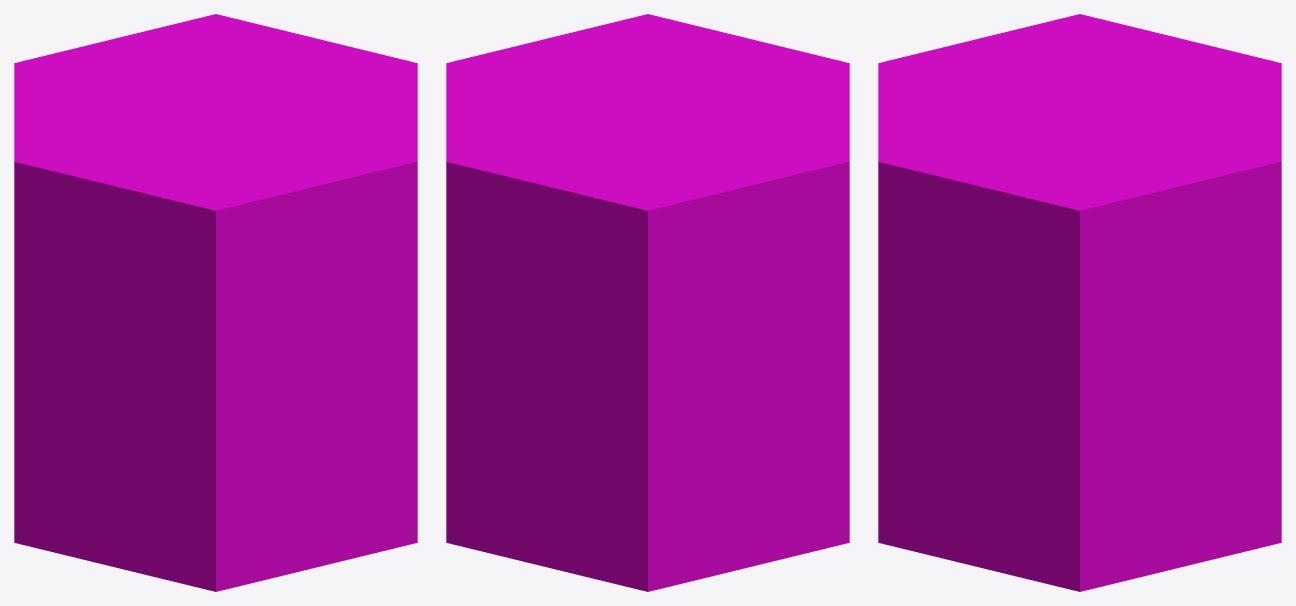
Rendered from GB_Village_House_02.fbx.
The picture shows the model from 3 angles, left to right: view 1: azimuth 30°, elevation 25°; view 2: azimuth 150°, elevation 25°; view 3: azimuth 270°, elevation 25°; orthographic projection.
Visible parts, largest first — view 1: Village_House_02; view 2: Village_House_02; view 3: Village_House_02.
Boxes of the visible parts, x1,y1,x2,y2 form: Village_House_02: (14,14,417,591); Village_House_02: (446,14,849,591); Village_House_02: (878,14,1281,591).
Bounding box in the file's own units: 141 × 128 × 123.
